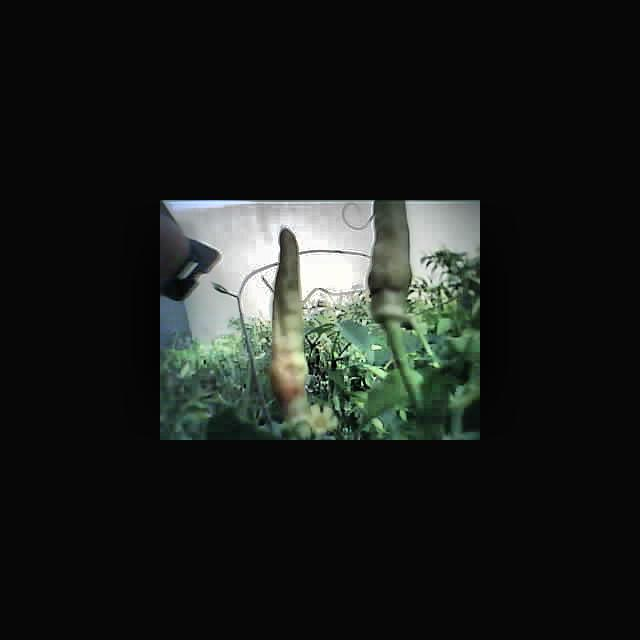Cabai: (262, 233, 315, 399)
